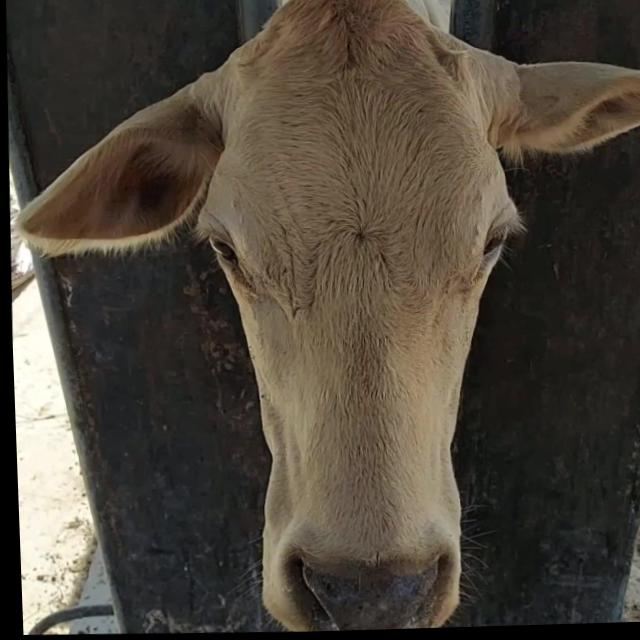cowFace: (187, 0, 526, 636)
